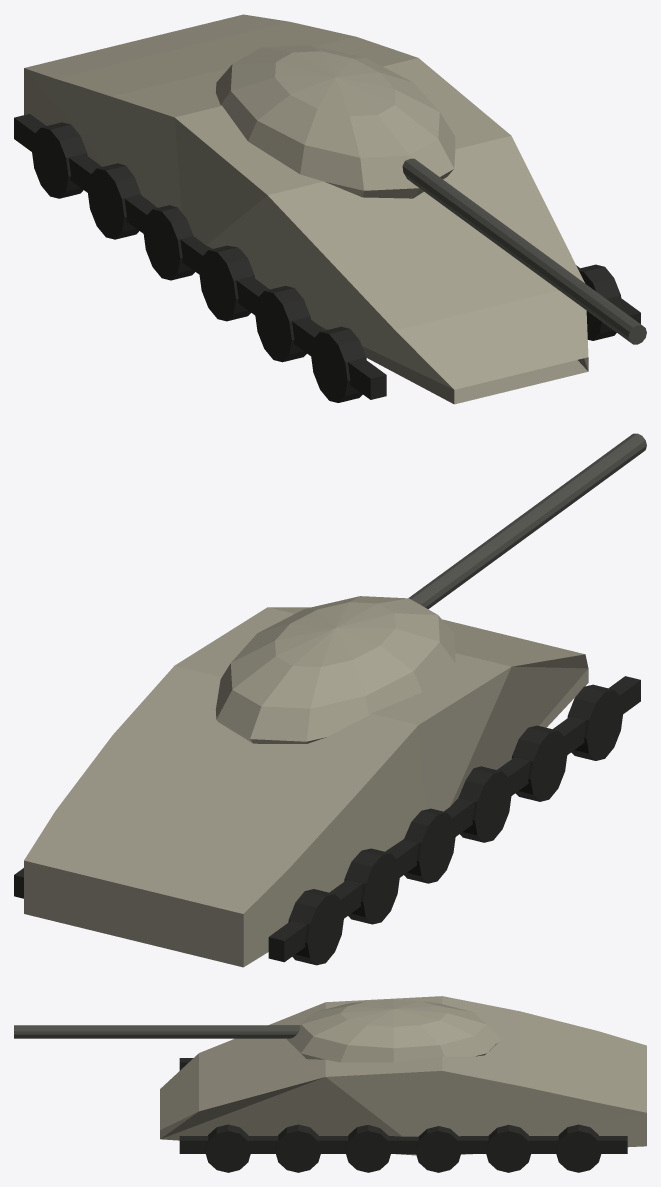
Rendered from panther.glb.
The picture shows the model from 3 angles, top to bottom: view 1: azimuth 30°, elevation 25°; view 2: azimuth 150°, elevation 25°; view 3: azimuth 270°, elevation 25°; orthographic projection. The views are drawn at different scales.
Visible parts, largest first — view 1: Hull, Turret, Gun, Track_L, Wheel_L_01, Wheel_L_02, Wheel_L_06, Wheel_L_03, Wheel_L_05, Wheel_L_04, Wheel_R_01; view 2: Hull, Turret, Gun, Track_L, Wheel_L_02, Wheel_L_06, Wheel_L_01, Wheel_L_05, Wheel_L_03, Wheel_L_04; view 3: Hull, Turret, Gun, Track_R, Wheel_R_01, Wheel_R_02, Wheel_R_06, Wheel_R_05, Wheel_R_03, Wheel_R_04.
Boxes of the visible parts, x1,y1,x2,y2 form: Hull: (24, 14, 588, 404); Turret: (215, 45, 455, 198); Gun: (402, 158, 646, 344); Track_L: (14, 114, 386, 399); Wheel_L_01: (311, 326, 366, 402); Wheel_L_02: (255, 286, 310, 362); Wheel_L_06: (31, 122, 87, 198); Wheel_L_03: (199, 245, 254, 321); Wheel_L_05: (87, 163, 140, 239); Wheel_L_04: (143, 205, 194, 280); Wheel_R_01: (578, 264, 621, 340); Hull: (24, 607, 588, 967); Turret: (215, 596, 455, 743); Gun: (408, 433, 646, 609); Track_L: (268, 676, 640, 962); Wheel_L_02: (511, 725, 567, 801); Wheel_L_06: (288, 889, 344, 965); Wheel_L_01: (567, 684, 623, 760); Wheel_L_05: (344, 848, 399, 924); Wheel_L_03: (458, 766, 511, 842); Wheel_L_04: (404, 808, 455, 883); Hull: (160, 996, 646, 1155); Turret: (287, 999, 500, 1062); Gun: (14, 1025, 300, 1038); Track_R: (179, 1136, 627, 1153); Wheel_R_01: (205, 1124, 251, 1172); Wheel_R_02: (275, 1124, 321, 1172); Wheel_R_06: (555, 1124, 601, 1172); Wheel_R_05: (485, 1124, 531, 1172); Wheel_R_03: (345, 1125, 391, 1172); Wheel_R_04: (415, 1126, 461, 1172).
Size of the model in its own units: 3.56 by 2.38 by 11.26.
